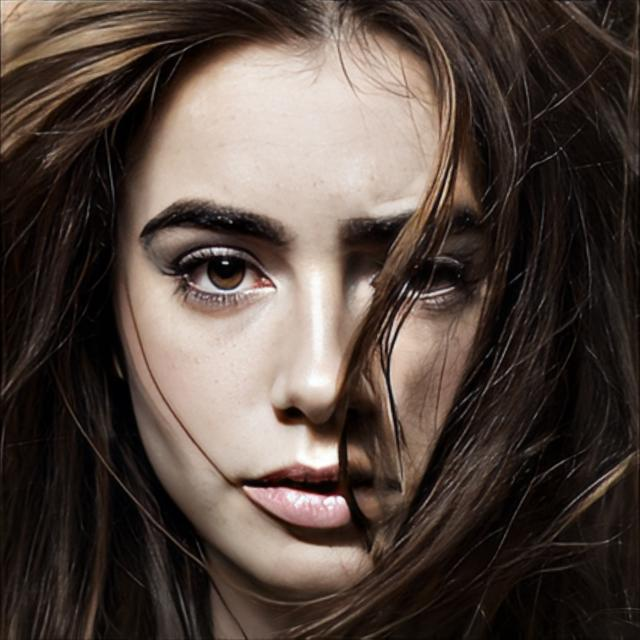sad: (111, 17, 500, 610)
